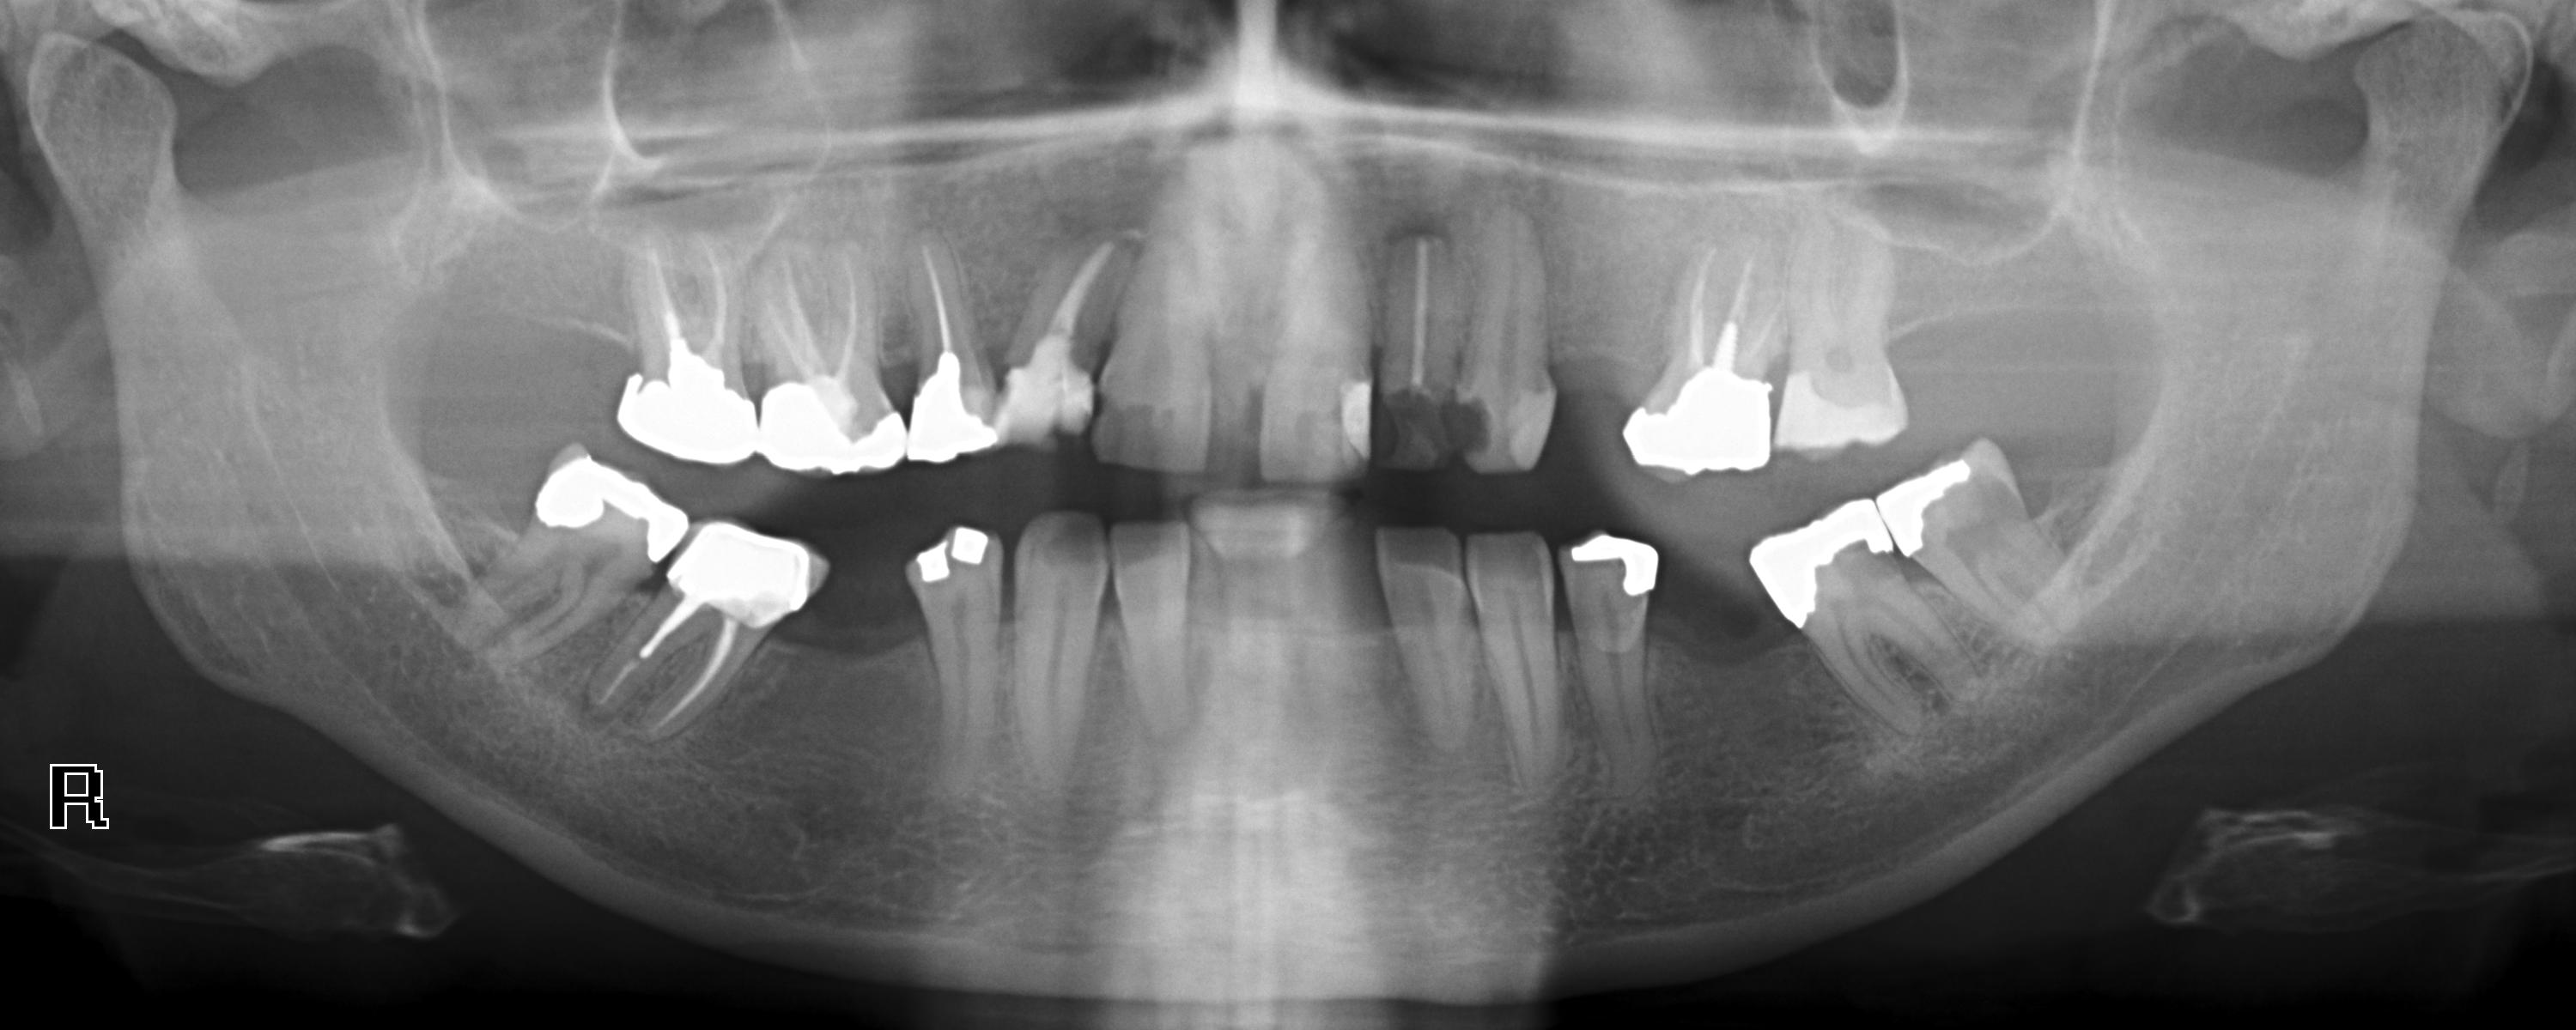Çürük: (669, 498, 826, 641), (526, 453, 687, 580), (1745, 509, 1896, 628), (611, 353, 762, 465), (1621, 375, 1773, 475), (762, 381, 905, 481), (1776, 361, 1914, 450), (907, 353, 996, 467), (900, 511, 1000, 593), (1874, 463, 1955, 563), (1000, 358, 1089, 447), (1566, 532, 1656, 601), (1339, 379, 1372, 460)
Çürük Bölgesi: (1378, 393, 1442, 465), (1452, 389, 1502, 476), (1040, 416, 1091, 457)
